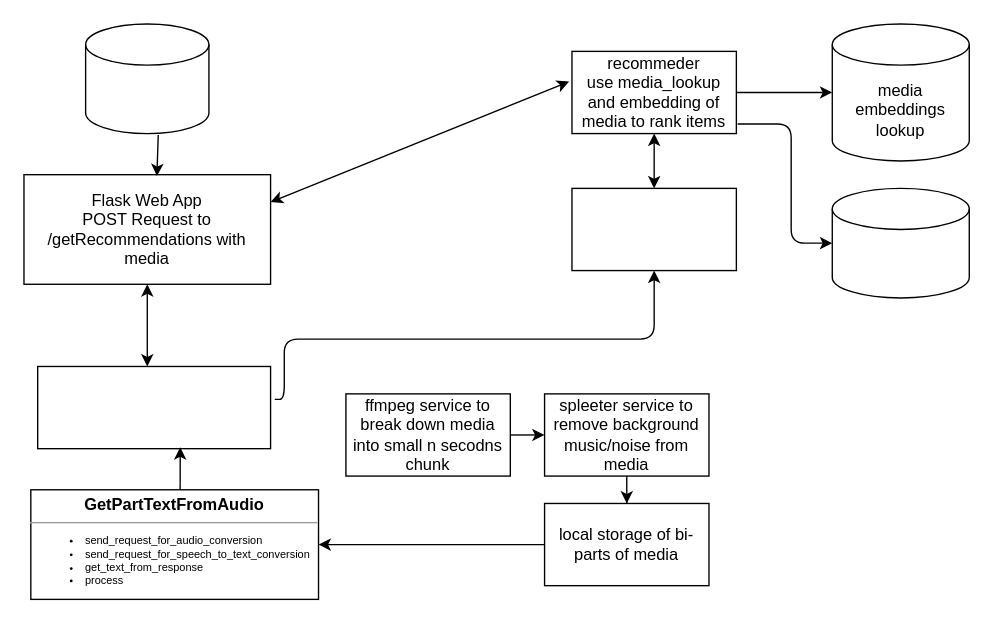
The diagram is 993 pixels wide and 623 high, and some of its shapes have lost their labels. Here are the shapes that lost their labels. From the top down, the centre of each, then its label:
At point (146, 78): "S3/Local storage for media".
At point (653, 229): "embedding generator".
At point (900, 242): "media meta data lookup".
At point (153, 407): "GetCompleteTextForAudio split_and_remove_noise get_all_part_texts".
